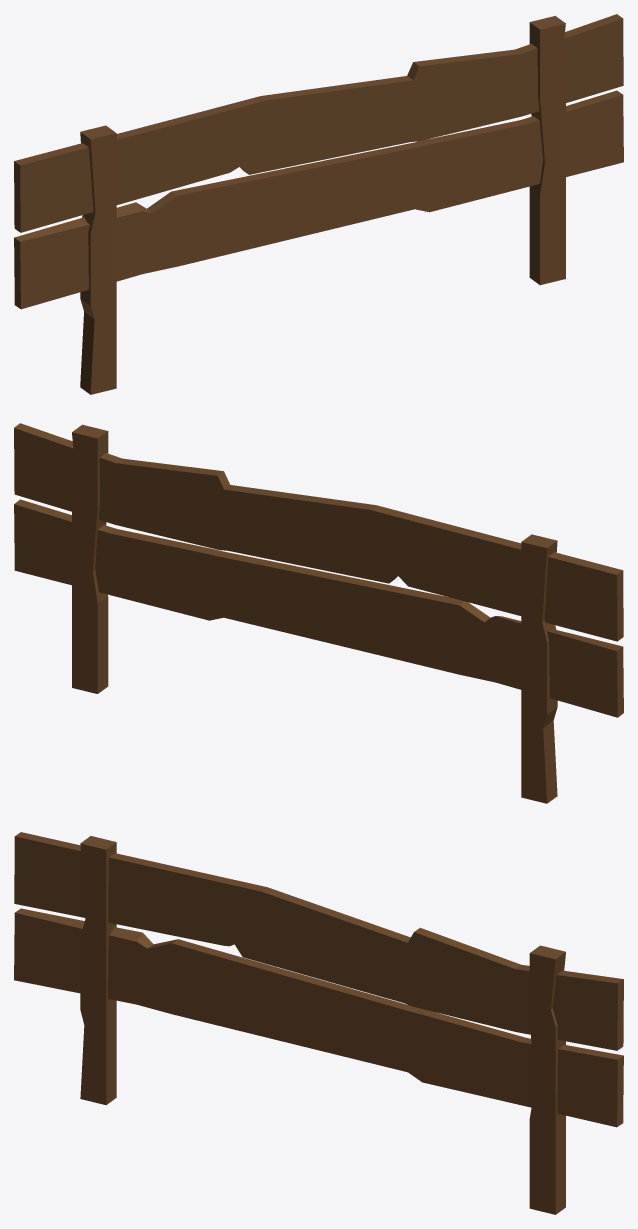
The model's file is wooden_fence.glb.
The picture shows the model from 3 angles, top to bottom: view 1: azimuth 30°, elevation 25°; view 2: azimuth 150°, elevation 25°; view 3: azimuth 330°, elevation 25°; orthographic projection.
Parts seen in each view (by area): view 1: Fence; view 2: Fence; view 3: Fence.
Part boxes in pixels (x1,y1,x2,y2): Fence: (14,14,623,394); Fence: (14,423,623,803); Fence: (14,832,623,1214).
Size of the model in its own units: 2 by 0.81 by 0.06.
